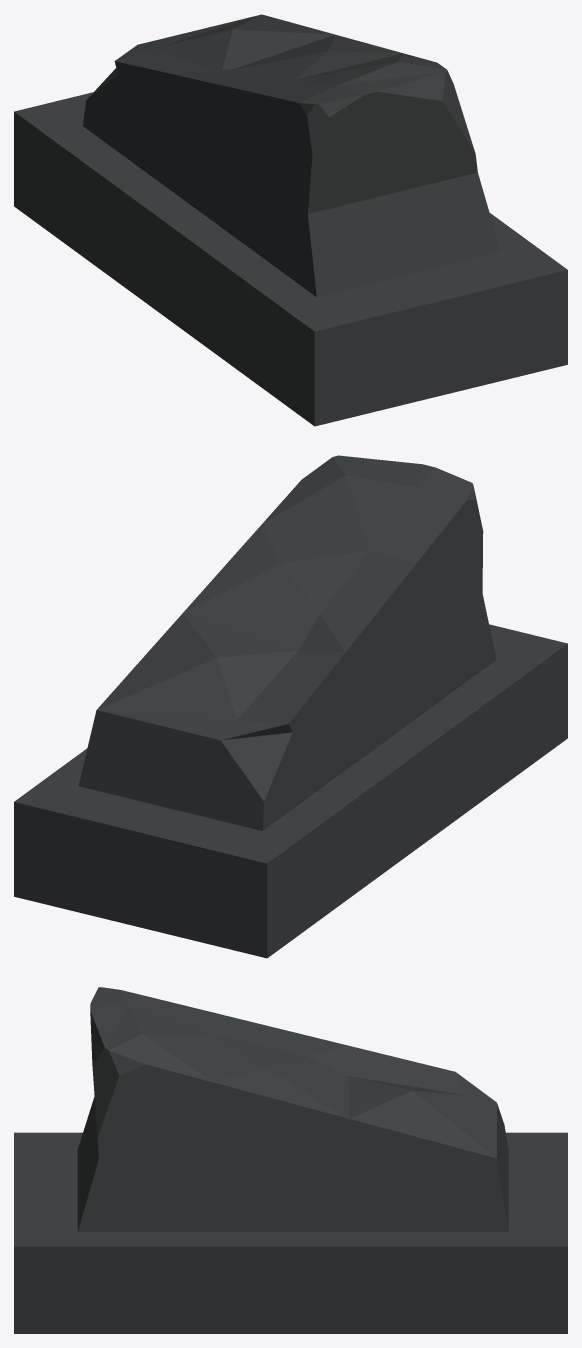
Rendered from gravestone5.fbx.
3 renders of one model, top to bottom at view 1: azimuth 30°, elevation 25°; view 2: azimuth 150°, elevation 25°; view 3: azimuth 270°, elevation 25°, orthographic. The views are drawn at different scales.
Parts seen in each view (by area): view 1: gravestone5; view 2: gravestone5; view 3: gravestone5.
Boxes of the visible parts, x1,y1,x2,y2 form: gravestone5: (14, 14, 567, 426); gravestone5: (14, 455, 567, 958); gravestone5: (14, 987, 567, 1333).
Size of the model in its own units: 0.9212 by 0.9698 by 1.89.
